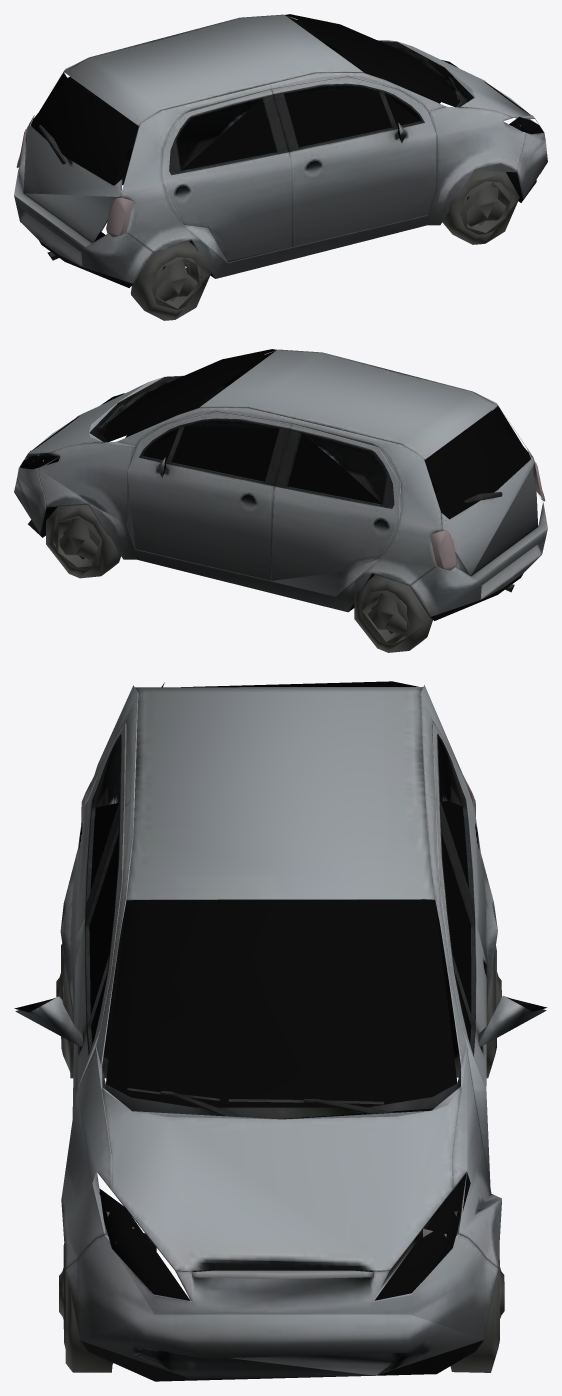
The model's file is pc-compact-silver.lod1.glb.
3 renders of one model, top to bottom at view 1: azimuth 30°, elevation 25°; view 2: azimuth 150°, elevation 25°; view 3: azimuth 270°, elevation 25°, orthographic. The views are drawn at different scales.
Parts seen in each view (by area): view 1: Compact Body_Body_0, Wheel_C_Wheel_0; view 2: Compact Body_Body_0, Wheel_C_Wheel_0; view 3: Compact Body_Body_0, Wheel_C_Wheel_0.
Boxes of the visible parts, x1=… form: Compact Body_Body_0: x1=14, y1=14, x2=547, y2=287; Wheel_C_Wheel_0: x1=16, y1=14, x2=543, y2=320; Compact Body_Body_0: x1=14, y1=349, x2=547, y2=620; Wheel_C_Wheel_0: x1=20, y1=349, x2=545, y2=652; Compact Body_Body_0: x1=14, y1=682, x2=547, y2=1381; Wheel_C_Wheel_0: x1=56, y1=681, x2=504, y2=1372.
Size of the model in its own units: 3.2 by 1.27 by 1.6.
2 materials, 1 textured.
